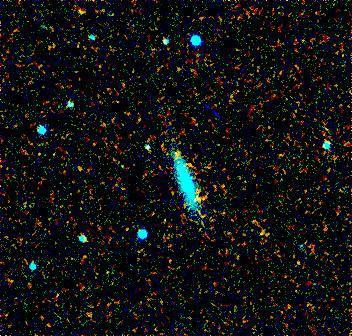star: (163, 53, 193, 83)
